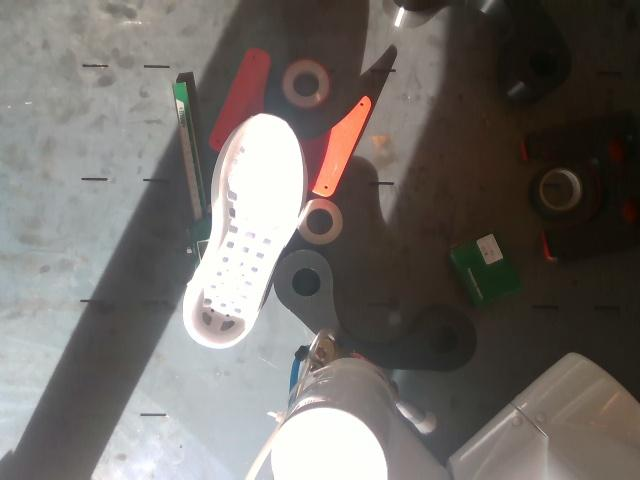shoes: (192, 114, 303, 344)
